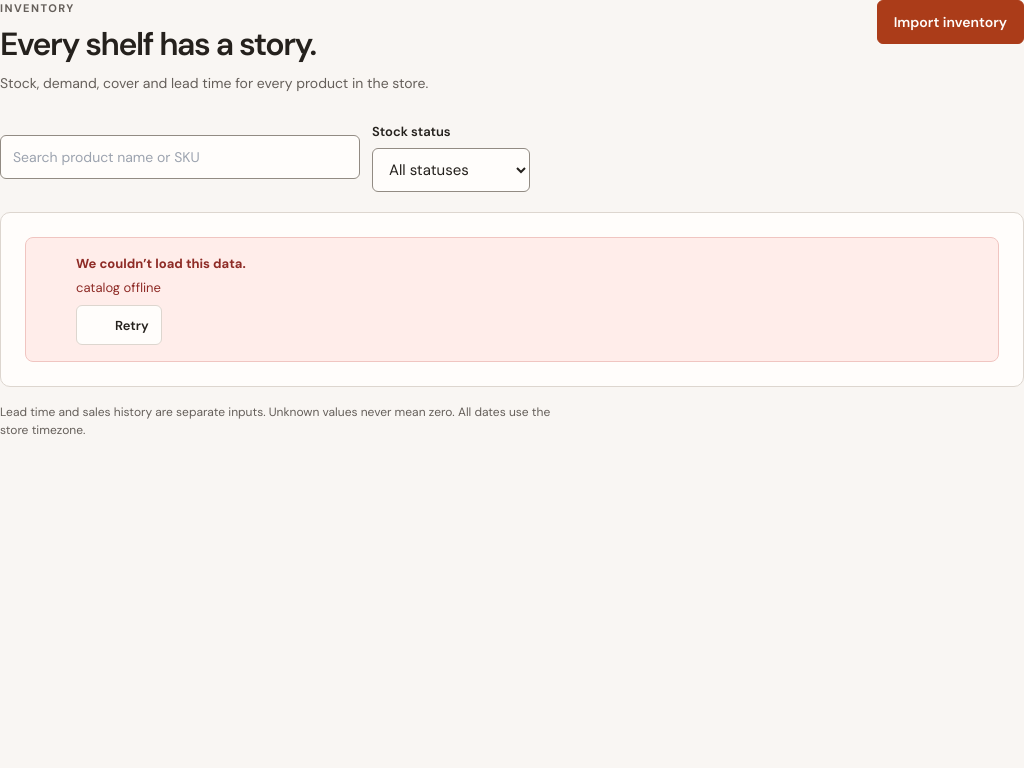
Test: inventory (live data) › surfaces an API failure and retries without losing the screen
Expected: the text "catalog offline" is shown, [76,279,161,296]
Click the button "Retry" at (119, 325), box [76,305,162,345]
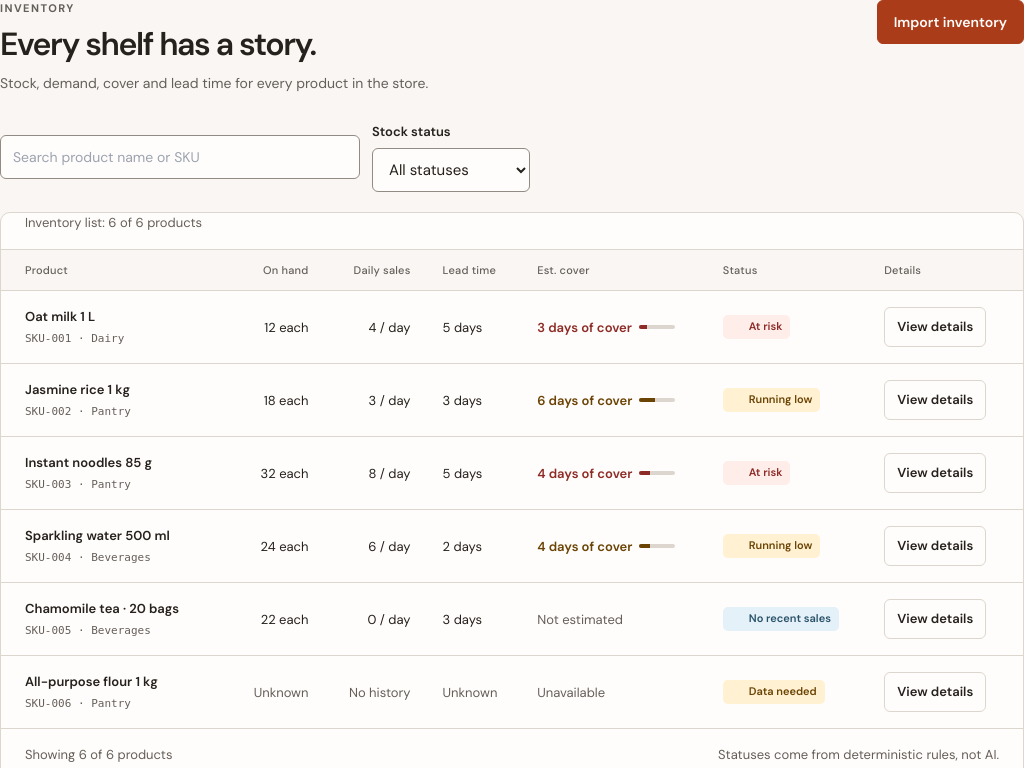
Expected: the link "Oat milk 1 L" is shown, [25,308,95,325]
